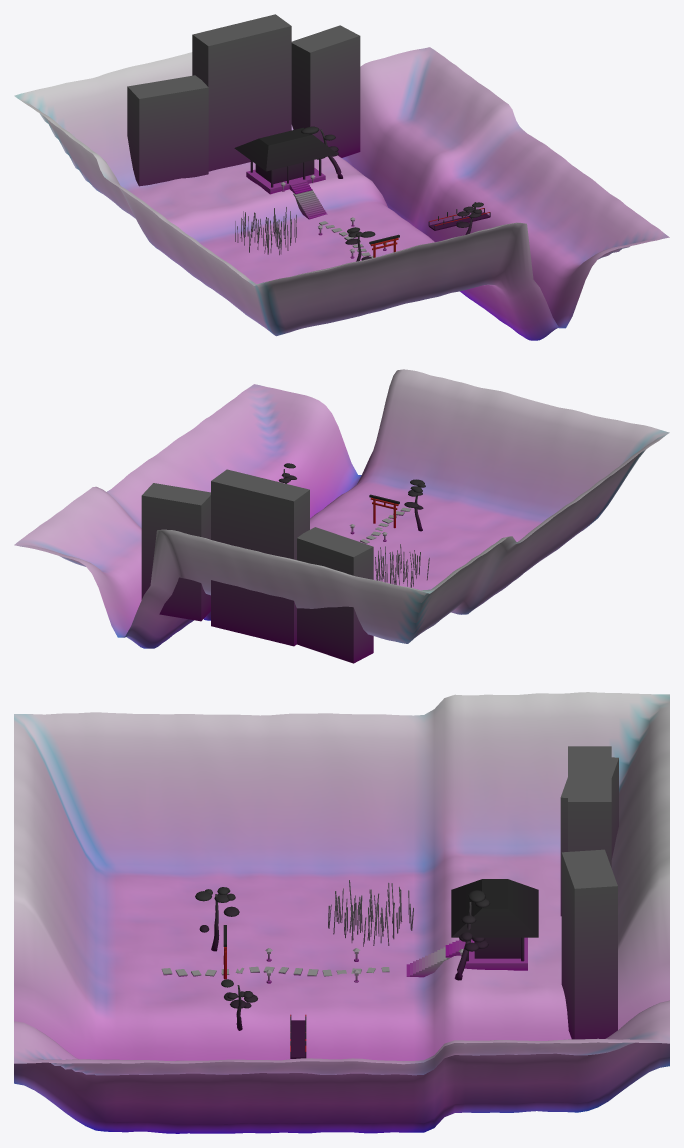
Rendered from kurogane_shrine_blockout.glb.
3 views of the same model, one above another, from view 1: azimuth 30°, elevation 25°; view 2: azimuth 150°, elevation 25°; view 3: azimuth 270°, elevation 25° (orthographic). The views are drawn at different scales.
Visible parts, largest first — view 1: Terrain-col, Cliff1-col, Cliff0-col, Cliff2-col, ShrineHall-col, BambooGrove, StoneStairs-col; view 2: Terrain-col, Cliff1-col, Cliff0-col, Cliff2-col, BambooGrove, PineGateWest-col; view 3: Terrain-col, Cliff2-col, ShrineHall-col, Cliff1-col, BambooGrove, Cliff0-col, PineHallEast-col, PathStones-col, PineGateWest-col, StoneStairs-col, Bridge-col, PineRavine-col.
Part boxes in pixels (x1=…): Terrain-col: x1=14, y1=47, x2=669, y2=340; Cliff1-col: x1=192, y1=14, x2=291, y2=171; Cliff0-col: x1=127, y1=75, x2=208, y2=186; Cliff2-col: x1=291, y1=25, x2=360, y2=157; ShrineHall-col: x1=234, y1=127, x2=336, y2=194; BambooGrove: x1=235, y1=207, x2=296, y2=255; StoneStairs-col: x1=293, y1=189, x2=327, y2=219; Terrain-col: x1=14, y1=369, x2=669, y2=648; Cliff1-col: x1=211, y1=469, x2=309, y2=646; Cliff0-col: x1=297, y1=527, x2=373, y2=663; Cliff2-col: x1=141, y1=483, x2=210, y2=621; BambooGrove: x1=375, y1=544, x2=429, y2=587; PineGateWest-col: x1=404, y1=479, x2=425, y2=531; Terrain-col: x1=14, y1=692, x2=669, y2=1133; Cliff2-col: x1=561, y1=849, x2=617, y2=1039; ShrineHall-col: x1=445, y1=879, x2=538, y2=970; Cliff1-col: x1=568, y1=746, x2=611, y2=867; BambooGrove: x1=328, y1=880, x2=413, y2=946; Cliff0-col: x1=560, y1=757, x2=618, y2=916; PineHallEast-col: x1=454, y1=890, x2=489, y2=980; PathStones-col: x1=161, y1=966, x2=389, y2=976; PineGateWest-col: x1=195, y1=887, x2=239, y2=951; StoneStairs-col: x1=406, y1=947, x2=449, y2=977; Bridge-col: x1=290, y1=1014, x2=306, y2=1058; PineRavine-col: x1=221, y1=979, x2=257, y2=1030.
Size of what is drawn, in the model's own units: 90 by 43.03 by 90.
